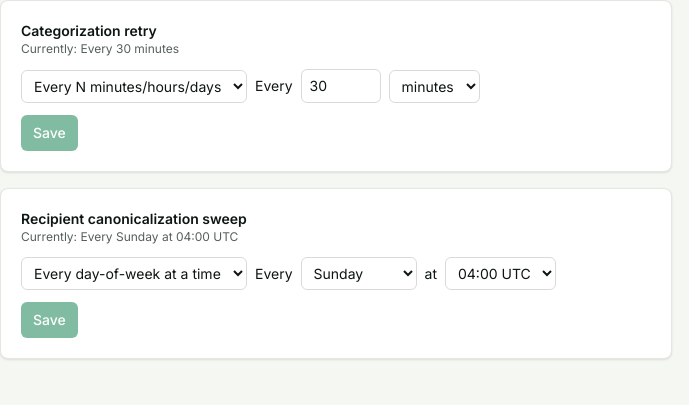
it: JobSchedulesPanel › saves an interval change via PUT and shows a confirmation
Replace the text in the number field with "45". click: (340, 86)
box: [300,69,380,103]
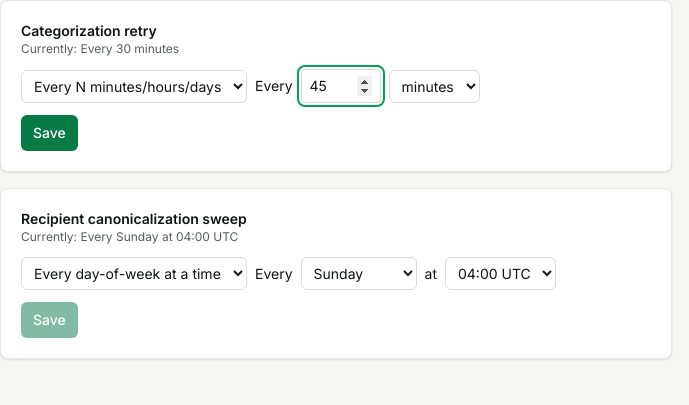
Click the button "Save" below "Every 30 minutes". click: (49, 133)
box: [21,115,78,151]
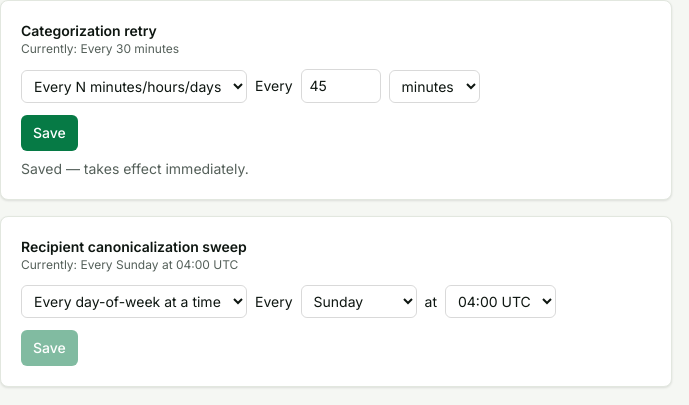
Now the text "Saved — takes effect immediately." is shown, box [21,160,249,177]
